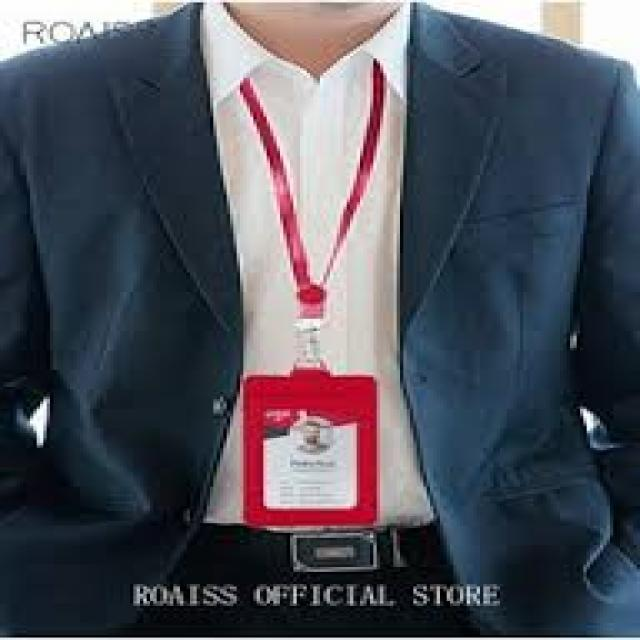id_card: (218, 77, 406, 537)
